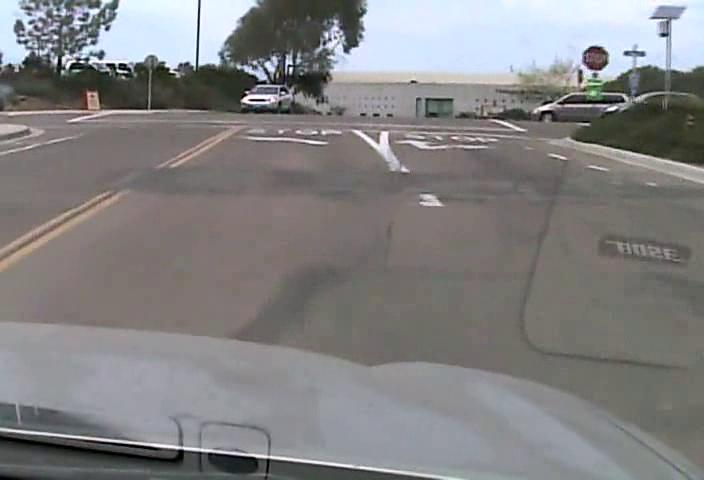stop: (581, 45, 609, 71)
